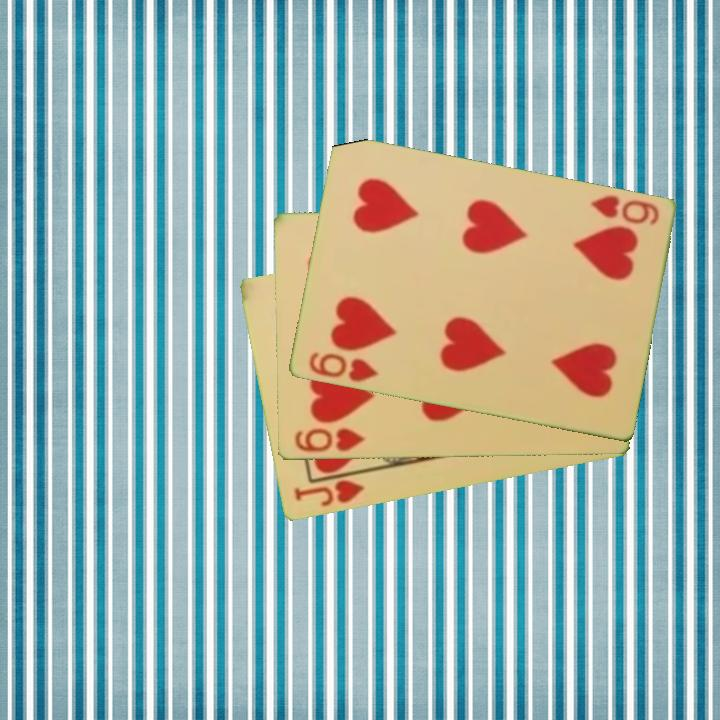6h: (305, 348, 382, 385), (586, 192, 662, 229), (291, 425, 367, 456)
Jh: (290, 468, 370, 510)
